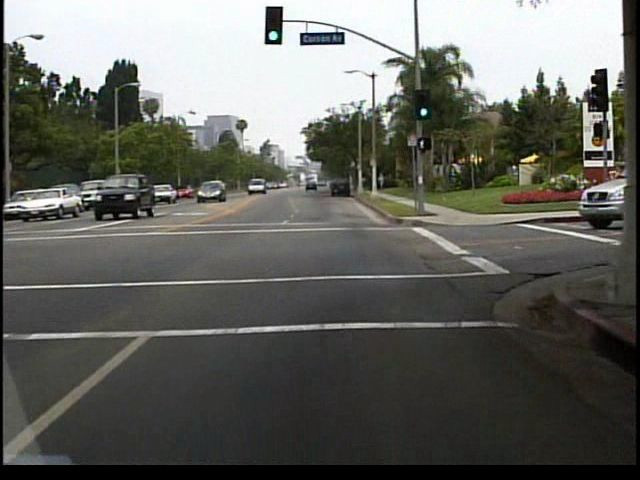person: (369, 176, 378, 199), (377, 172, 386, 192)
